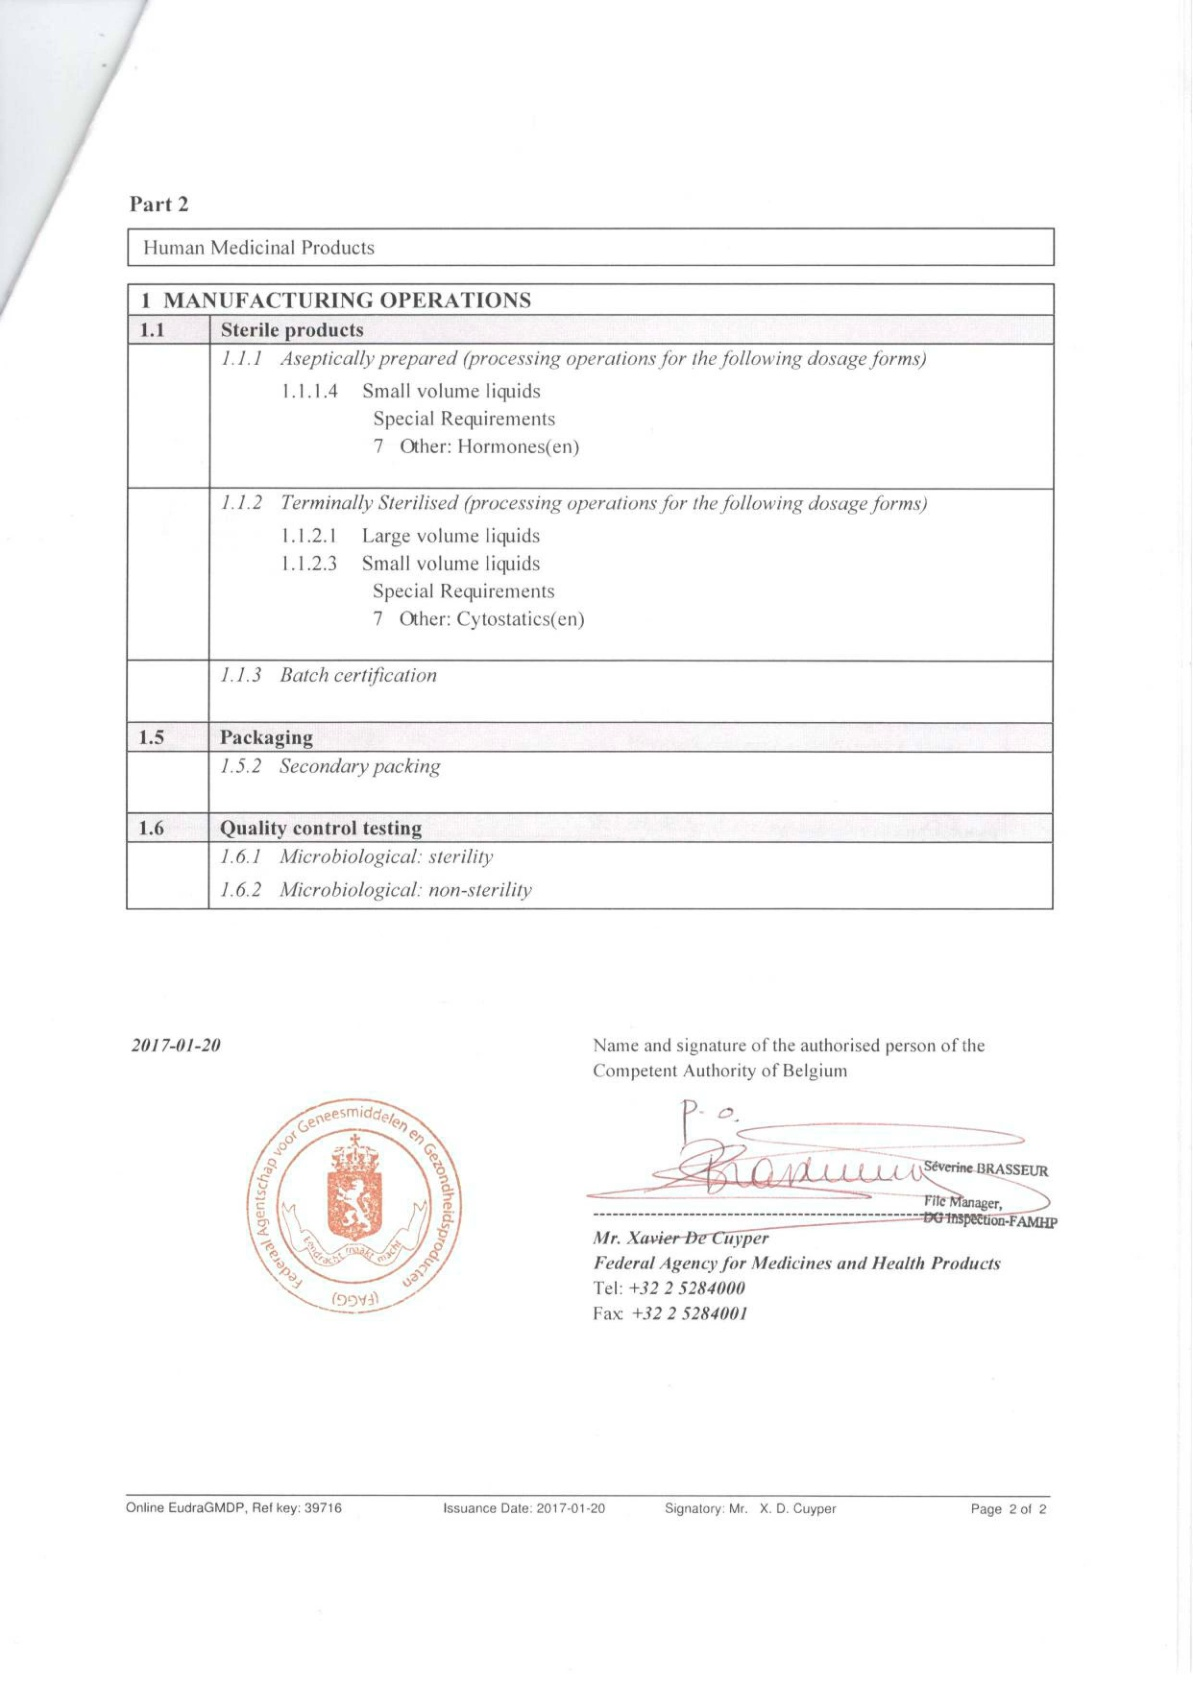merged_cells: (124, 281, 1055, 912)
